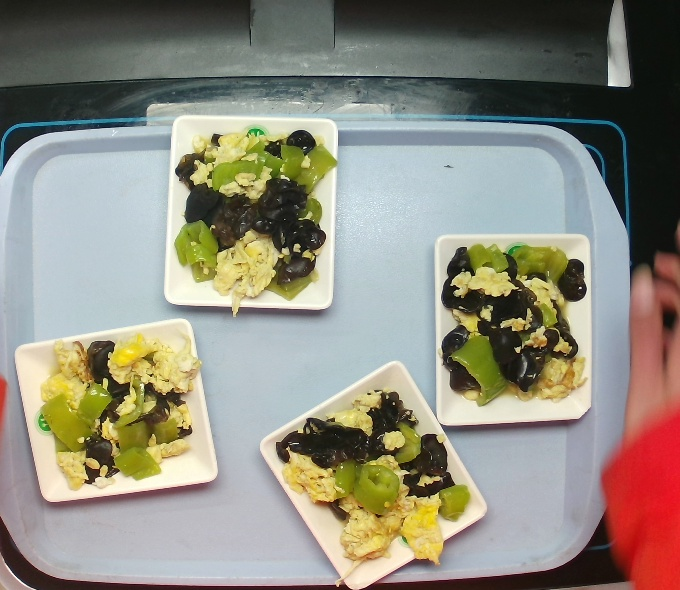wcq-MuErDanHuang: (279, 388, 472, 577), (425, 236, 596, 411), (178, 126, 327, 309), (35, 330, 197, 498)
